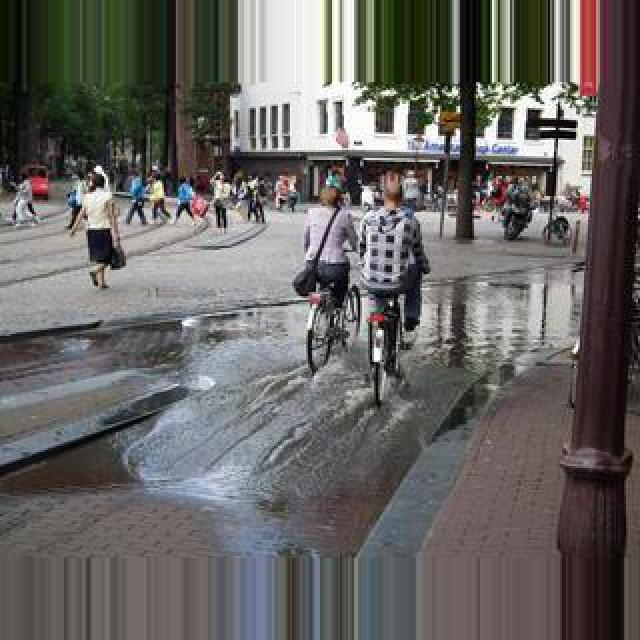MC-Bike: (354, 174, 430, 348), (294, 190, 352, 334), (70, 168, 124, 292), (502, 180, 534, 238), (144, 168, 168, 226), (126, 170, 148, 226), (212, 172, 232, 230), (174, 176, 196, 224), (246, 178, 264, 224), (276, 176, 292, 212)
Person: (364, 290, 412, 406), (306, 282, 356, 376), (544, 206, 574, 246)
